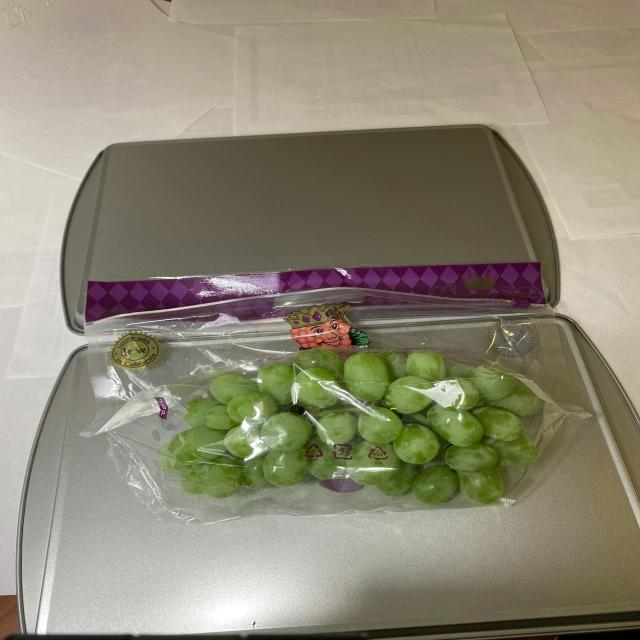grapes: (128, 355, 554, 506)
